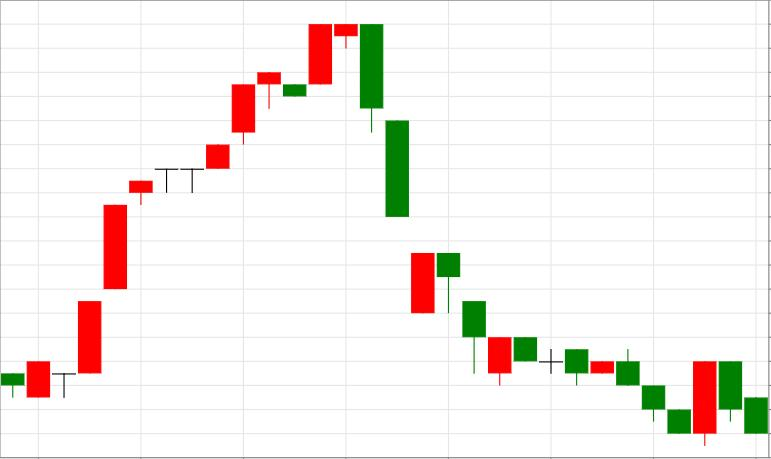bearish_engulfing_fall: (27, 24, 383, 398)
bullish_engulfing_rise: (437, 254, 716, 445)
